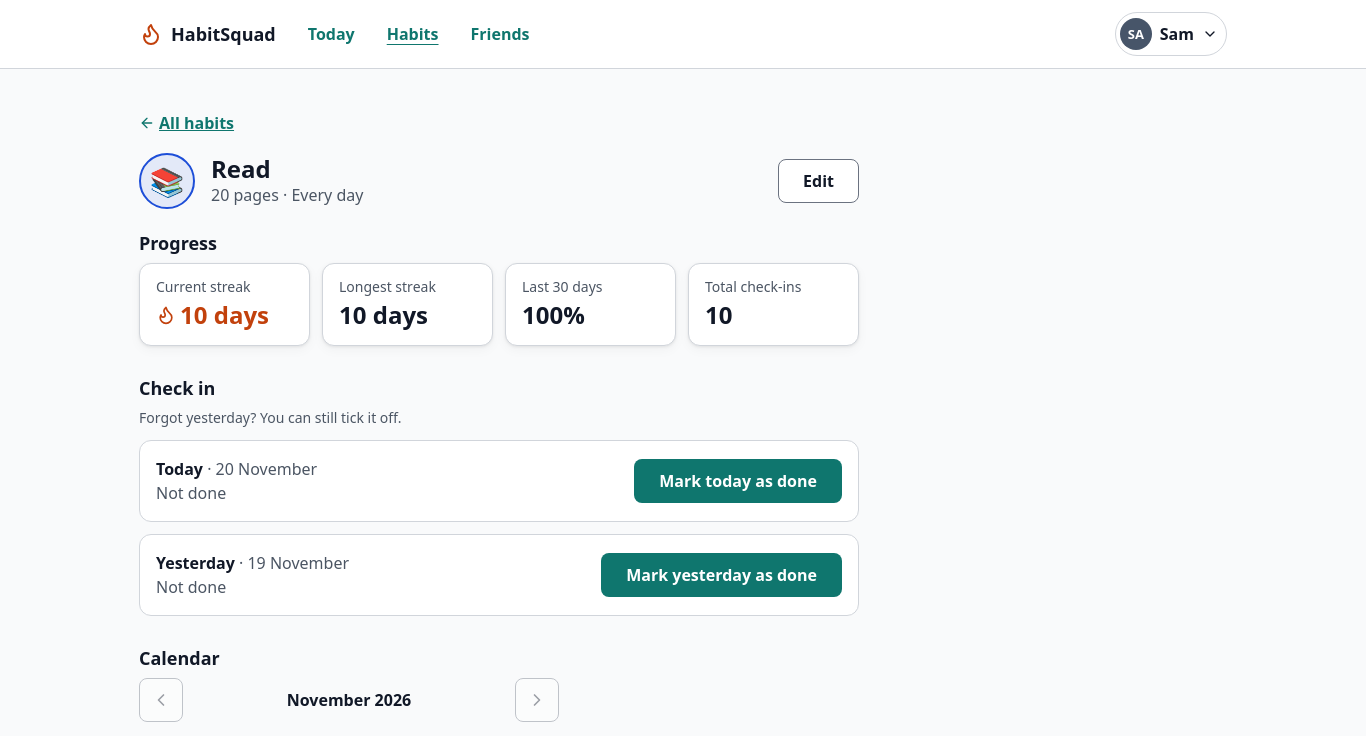
Test: HabitDetailPage › shows a check-in error next to the day
The image size is (1366, 736).
Check: the heading "Read" is shown, box [211,152,271,185]
What coordinates should you click on to do the following:
click the button "Mark today as done"
I would click on:
 (738, 481)
Its box is [634,459,842,503].
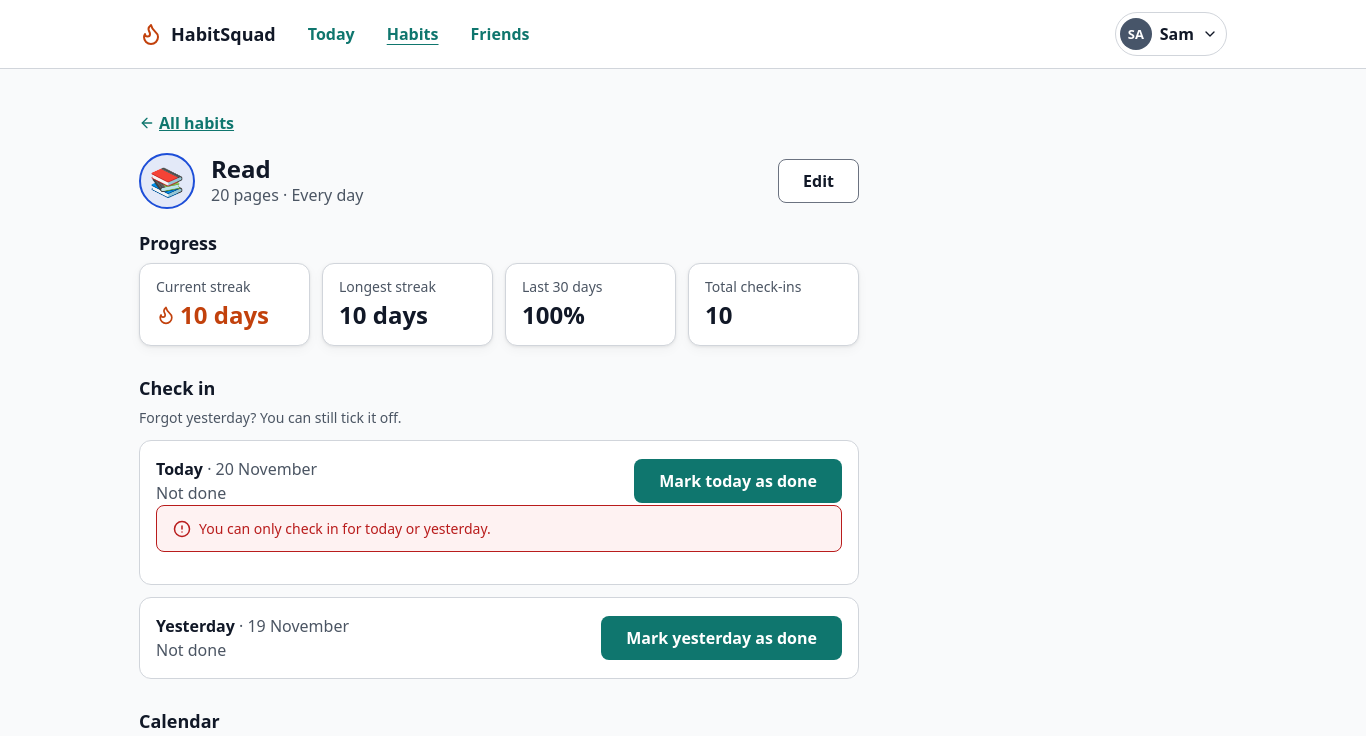
Check: the message reads "You can only check in for today or yesterday.", box [199,519,491,538]
